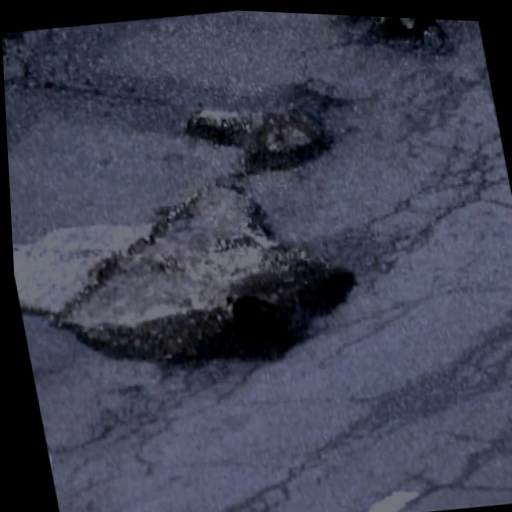pothole: (27, 160, 377, 403), (181, 88, 350, 193), (328, 15, 459, 76)
